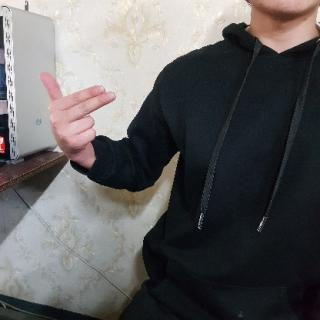GHAYN: (35, 68, 118, 157)
